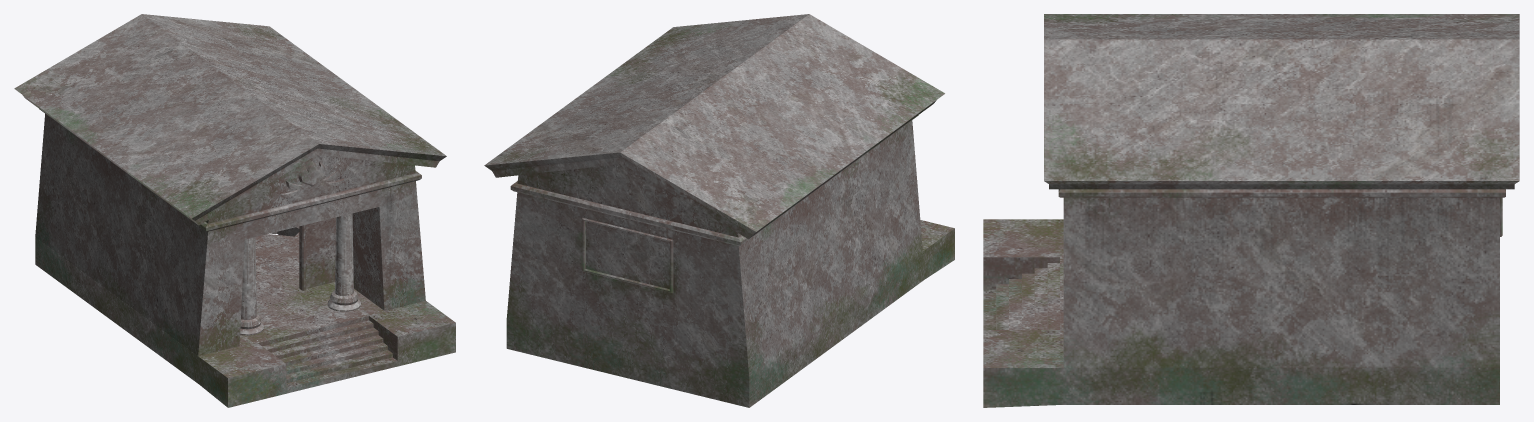
File: mausoleum.fbx
The picture shows the model from 3 angles, left to right: view 1: azimuth 30°, elevation 25°; view 2: azimuth 150°, elevation 25°; view 3: azimuth 270°, elevation 25°; orthographic projection. The views are drawn at different scales.
Visible parts, largest first — view 1: exterior, foundation, stairs, pillars, ornament, pillar; view 2: exterior, foundation; view 3: exterior, foundation, stairs.
Part boxes in pixels (x1=…): exterior: x1=14, y1=14, x2=446, y2=356; foundation: x1=35, y1=226, x2=455, y2=407; stairs: x1=262, y1=320, x2=397, y2=393; pillars: x1=240, y1=213, x2=360, y2=334; ornament: x1=280, y1=161, x2=343, y2=197; pillar: x1=240, y1=290, x2=361, y2=335; exterior: x1=484, y1=14, x2=944, y2=378; foundation: x1=506, y1=220, x2=954, y2=407; exterior: x1=1044, y1=14, x2=1519, y2=367; foundation: x1=983, y1=219, x2=1499, y2=407; stairs: x1=983, y1=263, x2=1059, y2=329.
Size of the model in its own units: 688 by 565 by 933.
